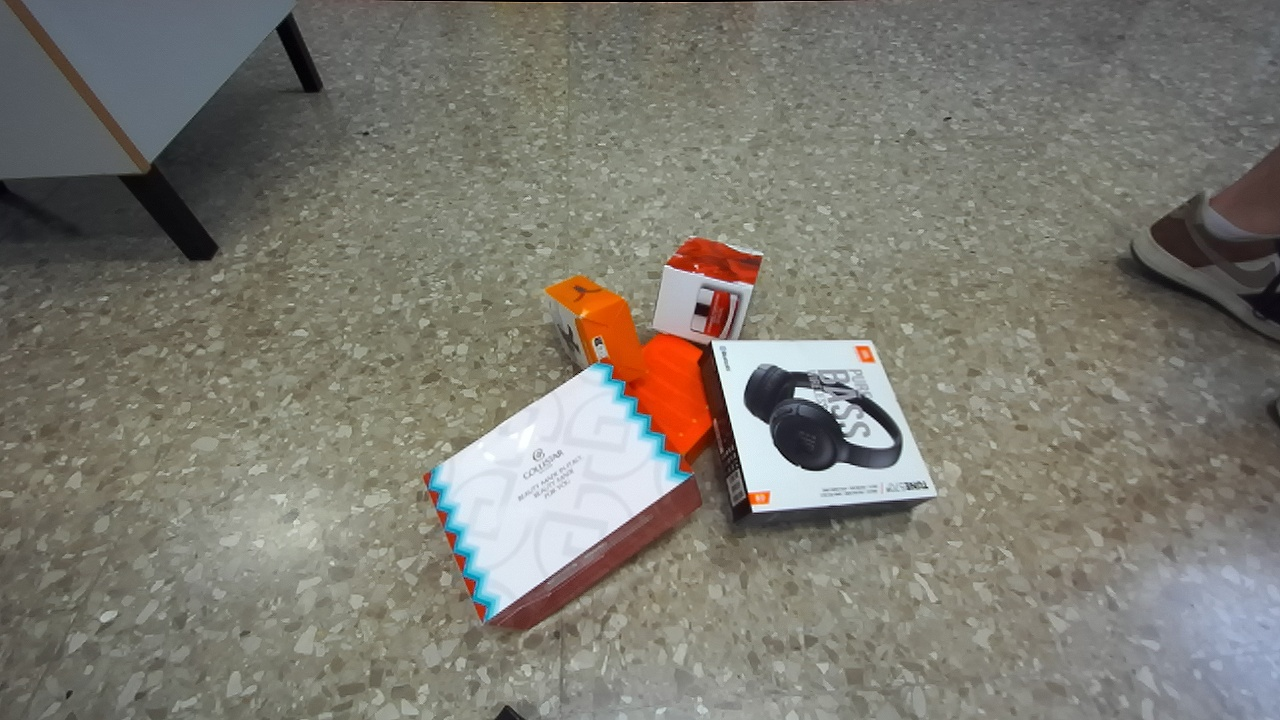caja_busbar: (424, 364, 700, 628)
caja_chasis: (700, 340, 936, 524)
caja_manguera: (627, 334, 711, 462)
caja_pcb: (545, 275, 646, 380)
caja_potencia: (653, 238, 762, 344)
